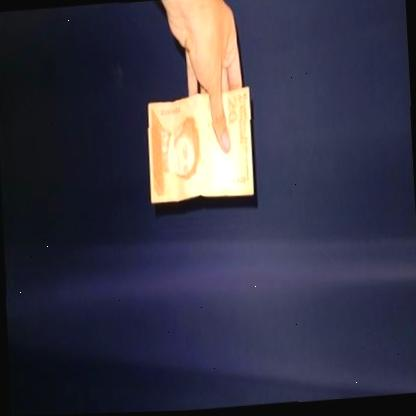vef_front: (144, 88, 254, 205)
